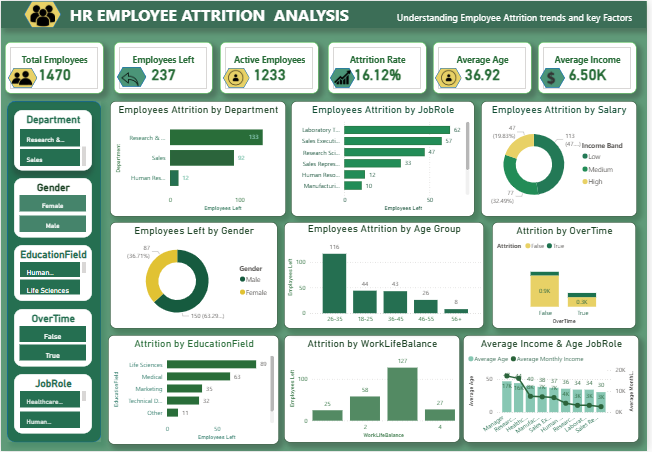

The page's visual inventory and layout, read from the dashboard file:
{"tool":"powerbi","page":{"name":"Page 1","canvas":[1291,900],"ordinal":0},"visuals":[{"type":"shape","box":[11.5,200,188.5,682.7],"z":0},{"type":"cardVisual","fields":{"Data":["HR-EmployeeAttrition.Total Employees"]},"box":[7.9,81,196.8,103.2],"z":1000},{"type":"cardVisual","fields":{"Data":["HR-EmployeeAttrition.Employees Left"]},"box":[225.4,81,196.8,103.2],"z":2000},{"type":"cardVisual","fields":{"Data":["HR-EmployeeAttrition.Active Employees"]},"box":[438,82.6,196.8,103.2],"z":3000},{"type":"cardVisual","fields":{"Data":["HR-EmployeeAttrition.Attrition Rate"]},"box":[653.9,82.6,196.8,103.2],"z":4000},{"type":"cardVisual","fields":{"Data":["HR-EmployeeAttrition.Average Age"]},"box":[863.4,82.6,196.8,103.2],"z":5000},{"type":"cardVisual","fields":{"Data":["HR-EmployeeAttrition.Average Monthly Income"]},"box":[1074.6,81,196.8,103.2],"z":6000},{"type":"clusteredBarChart","title":"Employees Attrition by Department","fields":{"Y":["HR-EmployeeAttrition.Employees Left"],"Category":["HR-EmployeeAttrition.Department"]},"box":[217.3,200,351.9,230.8],"z":7000},{"type":"clusteredBarChart","title":"Employees  Attrition by JobRole","fields":{"Y":["HR-EmployeeAttrition.Employees Left"],"Category":["HR-EmployeeAttrition.JobRole"]},"box":[580.8,200,367.3,230.8],"z":8000},{"type":"donutChart","fields":{"Category":["HR-EmployeeAttrition.Gender"],"Y":["HR-EmployeeAttrition.Employees Left"]},"box":[217.3,442.3,334.6,213.5],"z":9000},{"type":"donutChart","title":"Employees Attrition by Salary ","fields":{"Category":["HR-EmployeeAttrition.Income Band"],"Y":["HR-EmployeeAttrition.Employees Left"]},"box":[959.6,200,311.5,230.8],"z":10000},{"type":"lineStackedColumnComboChart","title":"Attrition  by OverTime ","fields":{"Category":["HR-EmployeeAttrition.OverTime"],"Y":["CountNonNull(HR-EmployeeAttrition.EmployeeNumber)"],"Series":["HR-EmployeeAttrition.Attrition"]},"box":[982.7,442.3,288.5,213.5],"z":11000},{"type":"clusteredBarChart","title":"Attrition by EducationField","fields":{"Category":["HR-EmployeeAttrition.EducationField"],"Y":["HR-EmployeeAttrition.Employees Left"]},"box":[213.5,667.3,342.3,219.2],"z":12000},{"type":"clusteredColumnChart","title":"Attrition by WorkLifeBalance","fields":{"Y":["HR-EmployeeAttrition.Employees Left"],"Category":["HR-EmployeeAttrition.WorkLifeBalance"]},"box":[565.4,667.3,351.9,215.4],"z":13000},{"type":"lineStackedColumnComboChart","title":"Average Income & Age  JobRole","fields":{"Category":["HR-EmployeeAttrition.JobRole"],"Y":["HR-EmployeeAttrition.Average Age"],"Y2":["HR-EmployeeAttrition.Average Monthly Income"]},"box":[923.1,667.3,351.9,215.4],"z":14000},{"type":"textbox","box":[0,0,1290.4,53.8],"z":15000},{"type":"clusteredColumnChart","title":"Employees Attrition by Age Group","fields":{"Category":["HR-EmployeeAttrition.Age Group"],"Y":["HR-EmployeeAttrition.Employees Left"]},"box":[565.4,442.3,400,213.5],"z":16000},{"type":"advancedSlicerVisual","fields":{"Values":["HR-EmployeeAttrition.Department"]},"box":[26.9,217.3,155.8,121.2],"z":17000},{"type":"advancedSlicerVisual","fields":{"Values":["HR-EmployeeAttrition.Gender"]},"box":[26.9,353.8,155.8,119.2],"z":18000},{"type":"advancedSlicerVisual","fields":{"Values":["HR-EmployeeAttrition.JobRole"]},"box":[26.9,746.2,155.8,119.2],"z":19000},{"type":"advancedSlicerVisual","fields":{"Values":["HR-EmployeeAttrition.OverTime"]},"box":[26.9,615.4,155.8,115.4],"z":20000},{"type":"advancedSlicerVisual","fields":{"Values":["HR-EmployeeAttrition.EducationField"]},"box":[26.9,488.5,155.8,111.5],"z":21000},{"type":"shape","box":[13.8,134.5,58.6,39.7],"z":21001},{"type":"shape","box":[46.6,0,74.1,53.4],"z":21002},{"type":"shape","box":[443.1,134.5,53.4,39.7],"z":21003},{"type":"shape","box":[231,132.8,58.6,39.7],"z":21004},{"type":"shape","box":[869,134.5,53.4,39.7],"z":21005},{"type":"shape","box":[658.6,134.5,50,39.7],"z":21006},{"type":"shape","box":[1077.6,134.5,50,39.7],"z":21007},{"type":"image","box":[0,122.4,84.5,63.8],"z":21008},{"type":"image","box":[1072.4,134.5,55.2,39.7],"z":21009},{"type":"image","box":[655.2,132.8,53.4,41.4],"z":21010},{"type":"image","box":[434.5,132.8,70.7,43.1],"z":21011},{"type":"image","box":[225.9,134.5,63.8,44.8],"z":21012},{"type":"image","box":[46.6,0,74.1,58.6],"z":21013},{"type":"image","box":[860.3,132.8,70.7,43.1],"z":21014}]}

Visuals, with their boxes in screenshot pixels (x1, y1, x2, y2), scaled from the page's 1291x900 canvas onto the 652x452 screenshot:
shape: 6, 100, 101, 443
cardVisual - HR-EmployeeAttrition.Total Employees: 4, 41, 103, 93
cardVisual - HR-EmployeeAttrition.Employees Left: 114, 41, 213, 93
cardVisual - HR-EmployeeAttrition.Active Employees: 221, 41, 321, 93
cardVisual - HR-EmployeeAttrition.Attrition Rate: 330, 41, 430, 93
cardVisual - HR-EmployeeAttrition.Average Age: 436, 41, 535, 93
cardVisual - HR-EmployeeAttrition.Average Monthly Income: 543, 41, 642, 93
"Employees Attrition by Department" clusteredBarChart: 110, 100, 287, 216
"Employees  Attrition by JobRole" clusteredBarChart: 293, 100, 479, 216
donutChart - HR-EmployeeAttrition.Gender x HR-EmployeeAttrition.Employees Left: 110, 222, 279, 329
"Employees Attrition by Salary " donutChart: 485, 100, 642, 216
"Attrition  by OverTime " lineStackedColumnComboChart: 496, 222, 642, 329
"Attrition by EducationField" clusteredBarChart: 108, 335, 281, 445
"Attrition by WorkLifeBalance" clusteredColumnChart: 286, 335, 463, 443
"Average Income & Age  JobRole" lineStackedColumnComboChart: 466, 335, 644, 443
textbox: 0, 0, 651, 27
"Employees Attrition by Age Group" clusteredColumnChart: 286, 222, 488, 329
advancedSlicerVisual - HR-EmployeeAttrition.Department: 14, 109, 92, 170
advancedSlicerVisual - HR-EmployeeAttrition.Gender: 14, 178, 92, 238
advancedSlicerVisual - HR-EmployeeAttrition.JobRole: 14, 375, 92, 435
advancedSlicerVisual - HR-EmployeeAttrition.OverTime: 14, 309, 92, 367
advancedSlicerVisual - HR-EmployeeAttrition.EducationField: 14, 245, 92, 301
shape: 7, 68, 37, 87
shape: 24, 0, 61, 27
shape: 224, 68, 251, 87
shape: 117, 67, 146, 87
shape: 439, 68, 466, 87
shape: 333, 68, 358, 87
shape: 544, 68, 569, 87
image: 0, 61, 43, 94
image: 542, 68, 569, 87
image: 331, 67, 358, 87
image: 219, 67, 255, 88
image: 114, 68, 146, 90
image: 24, 0, 61, 29
image: 434, 67, 470, 88
